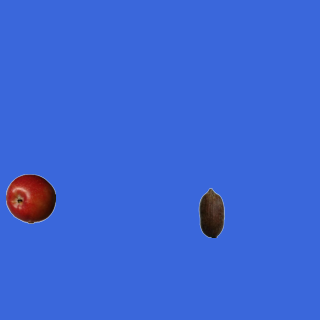Apple Braeburn: (5, 173, 55, 223)
Nut Pecan: (186, 187, 236, 237)
